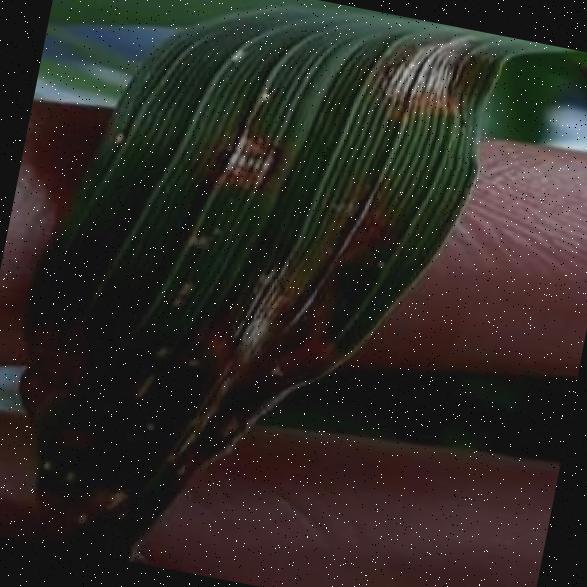Leaf_smut: (186, 232, 362, 384), (366, 13, 502, 152), (0, 287, 92, 415), (198, 107, 300, 206), (50, 405, 120, 462)
